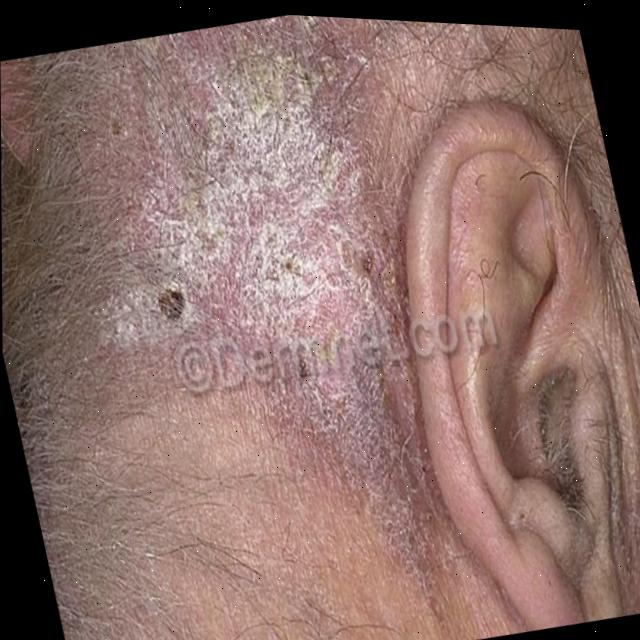Eczema: (66, 15, 411, 496)
